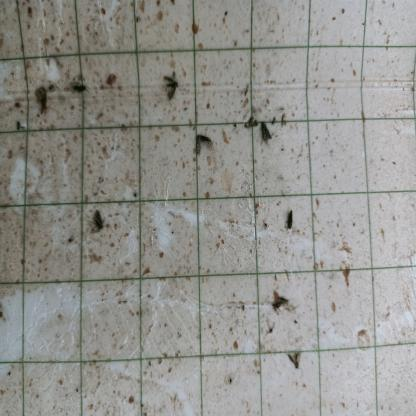prays_oleae: (162, 65, 181, 98), (92, 199, 109, 233), (286, 348, 307, 372), (70, 76, 88, 98), (273, 286, 286, 316), (259, 120, 272, 149), (282, 206, 296, 232), (199, 133, 214, 148), (194, 132, 203, 155)
